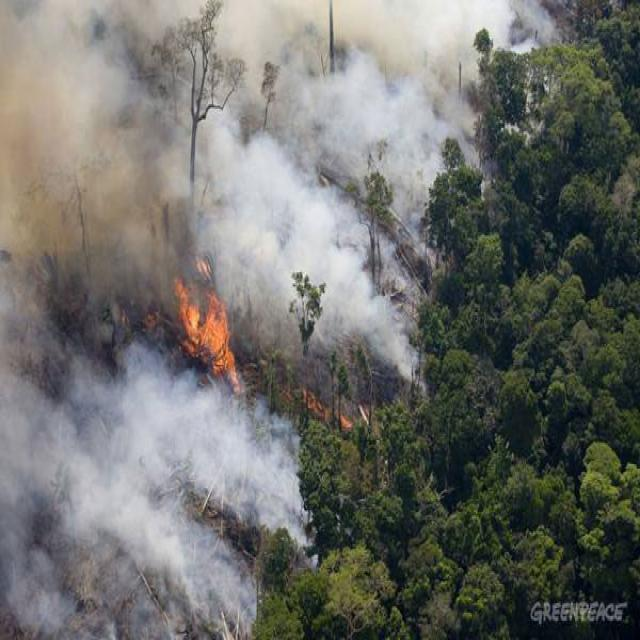Fire: (161, 231, 261, 397)
Smoke: (4, 1, 475, 640)
